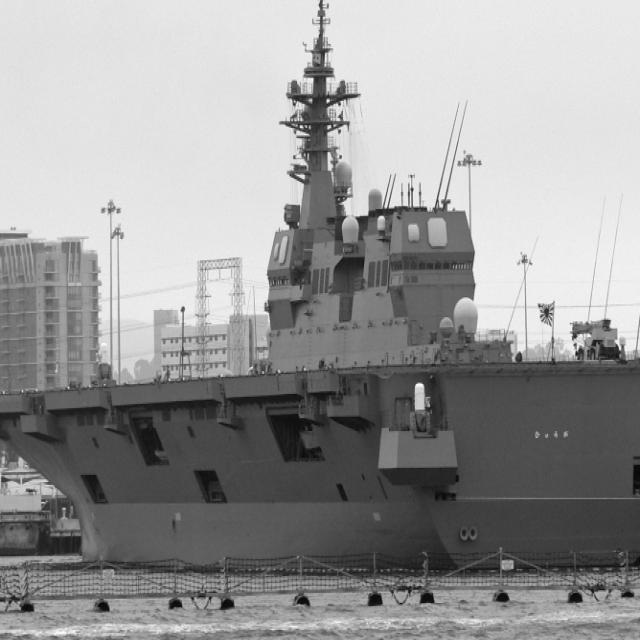Portanaves: (1, 1, 640, 580)
